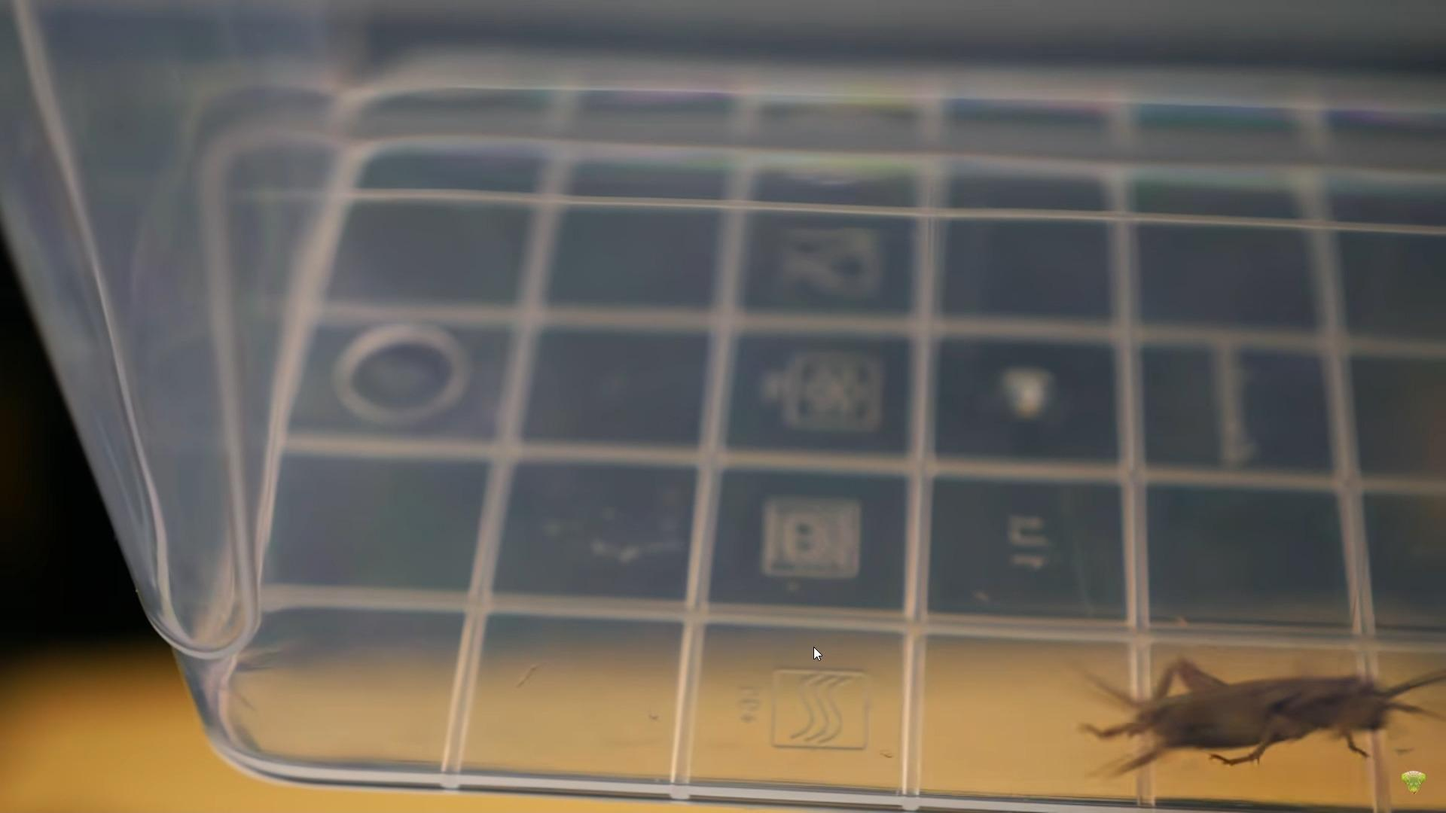cockroach: (1077, 640, 1438, 782)
